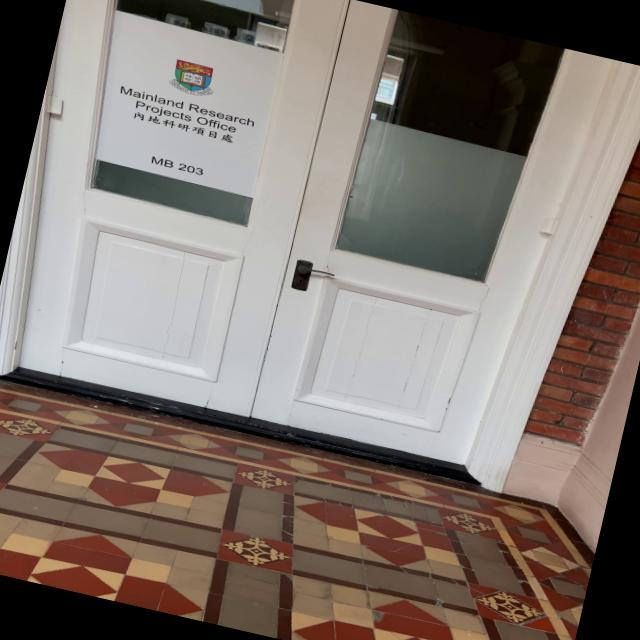room203Window: (146, 152, 207, 177)
